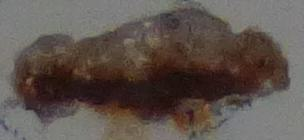Exposed reinforcement: (33, 64, 249, 109)
Spalling: (8, 1, 291, 140)
